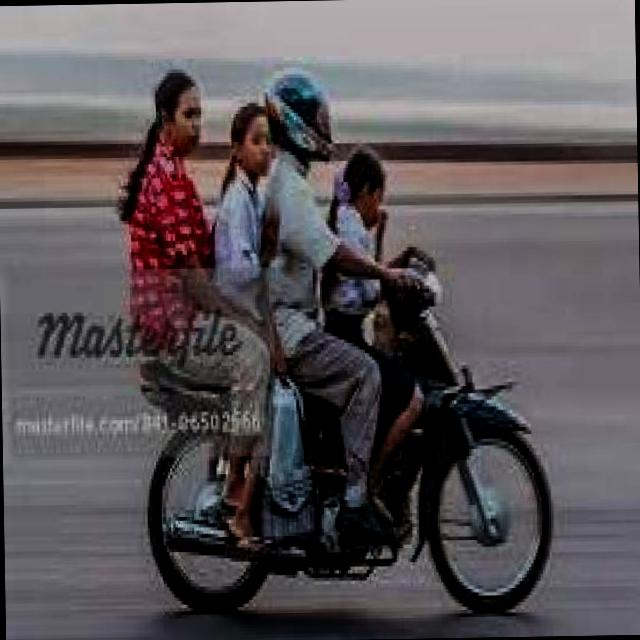motorcycle: (135, 237, 562, 640)
person: (235, 66, 354, 391), (115, 62, 228, 390), (206, 99, 292, 418), (320, 144, 410, 422)
rider_region: (128, 62, 558, 622)
